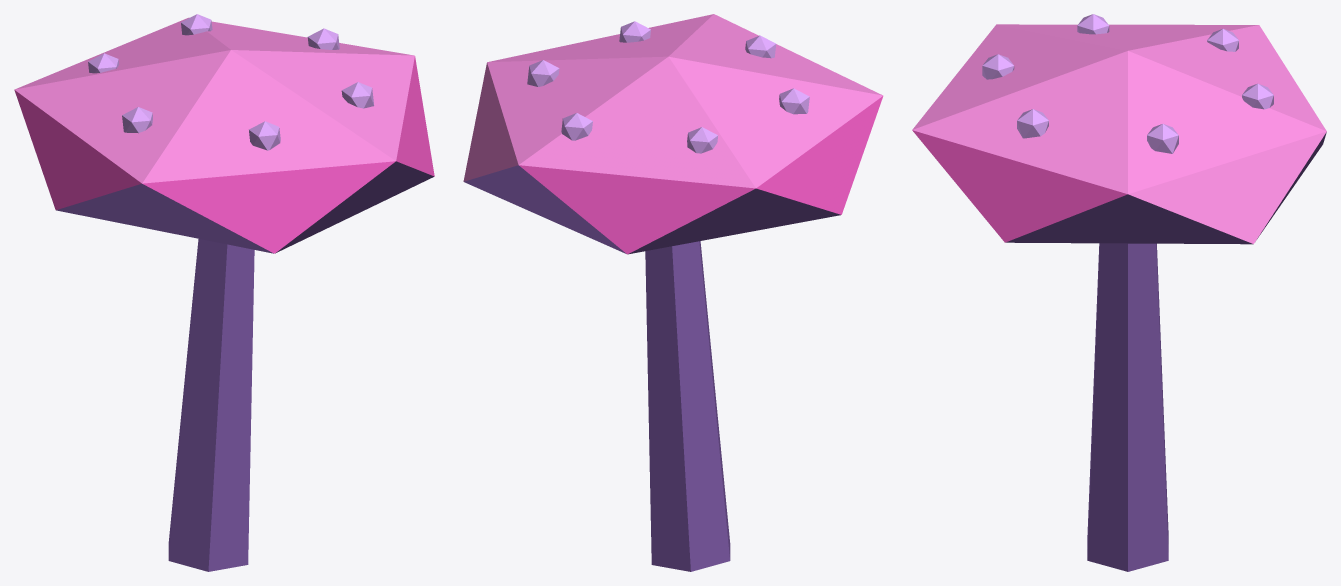
The model's file is Alien_Mushroom_Giant.obj.
3 renders of one model, left to right at view 1: azimuth 30°, elevation 25°; view 2: azimuth 150°, elevation 25°; view 3: azimuth 270°, elevation 25°, orthographic. The views are drawn at different scales.
Parts seen in each view (by area): view 1: Alien_Mushroom_Giant; view 2: Alien_Mushroom_Giant; view 3: Alien_Mushroom_Giant.
Part boxes in pixels (x1,y1,x2,y2): Alien_Mushroom_Giant: (14, 14, 434, 571); Alien_Mushroom_Giant: (463, 14, 883, 571); Alien_Mushroom_Giant: (912, 14, 1326, 571).
Size of the model in its own units: 3.16 by 4.21 by 3.09.
Materials: 1 (1 with a texture image).
